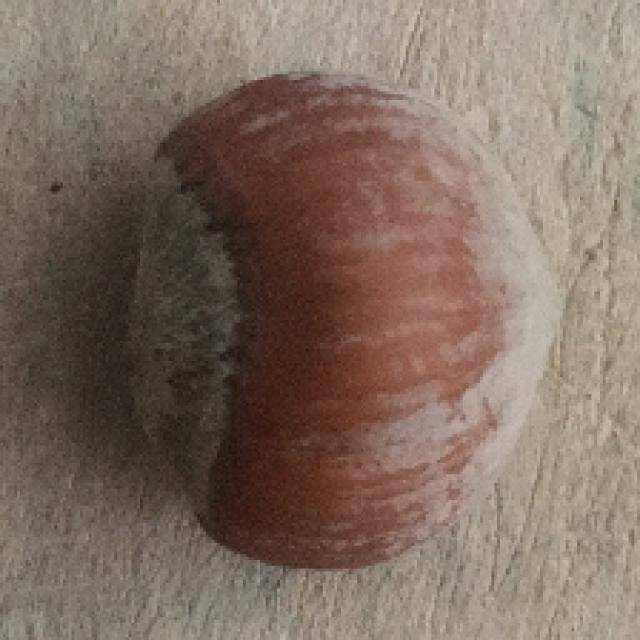QualityHazelnut: (119, 71, 568, 576)
